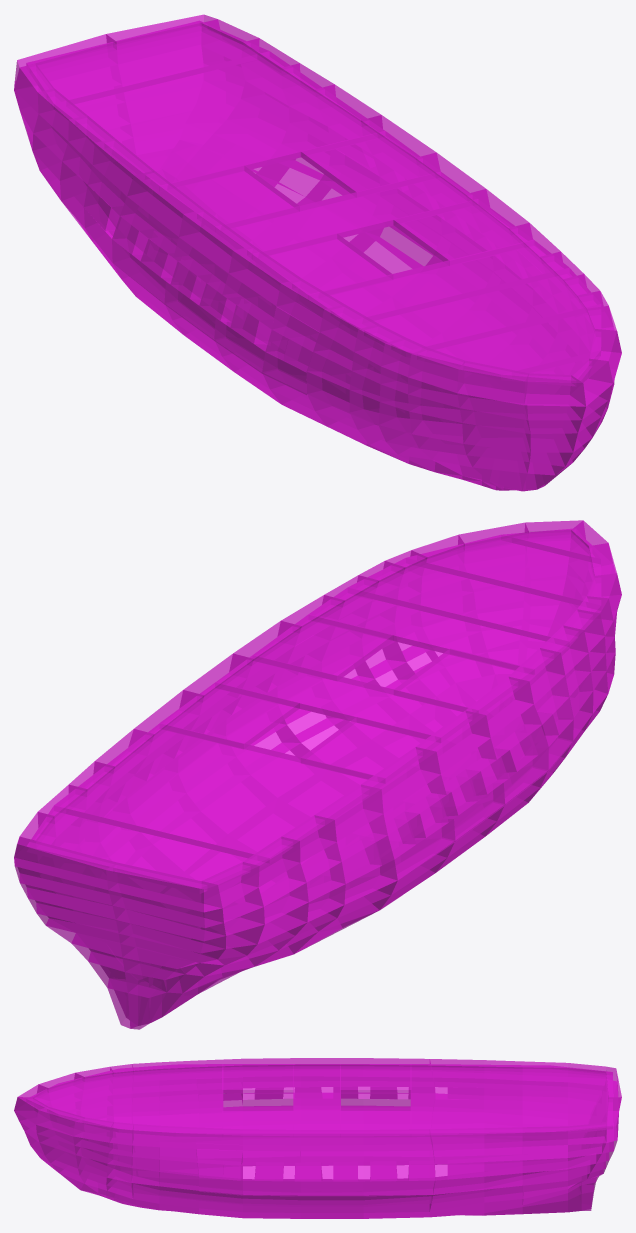
File: SM_Veh_Ship_L_Hull_01_Collision.fbx
The picture shows the model from 3 angles, top to bottom: view 1: azimuth 30°, elevation 25°; view 2: azimuth 150°, elevation 25°; view 3: azimuth 270°, elevation 25°; orthographic projection. The views are drawn at different scales.
Parts seen in each view (by area): view 1: SM_Veh_Ship_L_Hull_01_Collision; view 2: SM_Veh_Ship_L_Hull_01_Collision; view 3: SM_Veh_Ship_L_Hull_01_Collision.
Boxes of the visible parts, x1,y1,x2,y2 form: SM_Veh_Ship_L_Hull_01_Collision: (14,14,621,491); SM_Veh_Ship_L_Hull_01_Collision: (14,520,621,1029); SM_Veh_Ship_L_Hull_01_Collision: (14,1058,621,1218).
Size of the model in its own units: 1280 by 771 by 3656.
